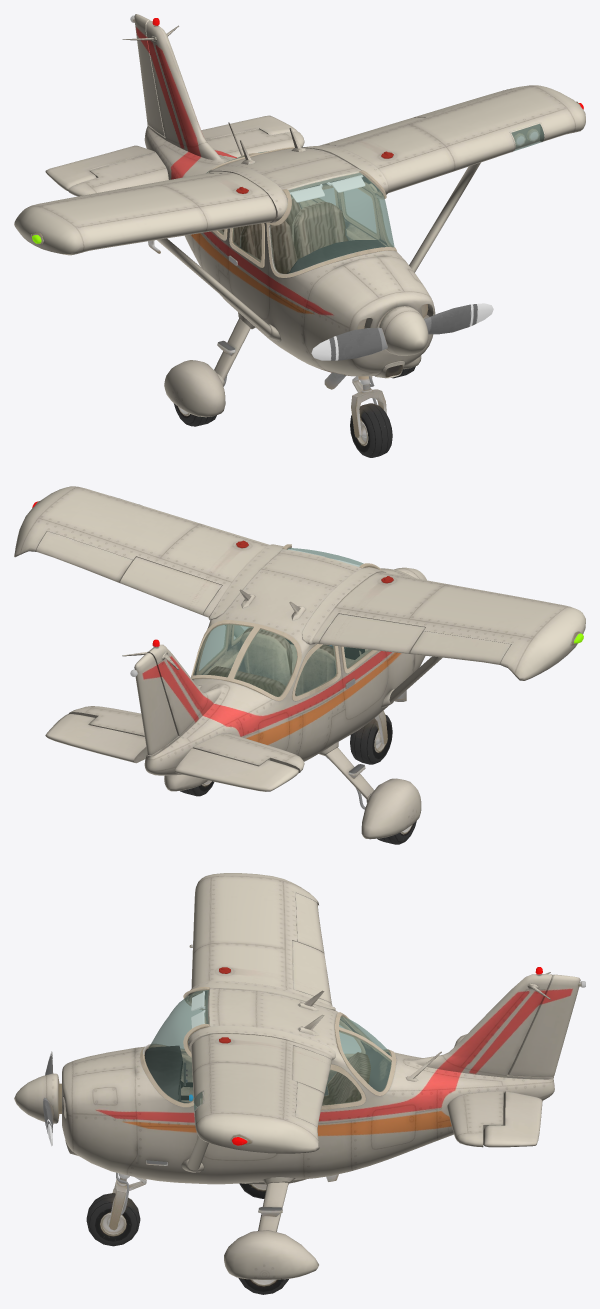
Rendered from skylark.glb.
3 renders of one model, top to bottom at view 1: azimuth 30°, elevation 25°; view 2: azimuth 150°, elevation 25°; view 3: azimuth 270°, elevation 25°, orthographic.
Parts seen in each view (by area): view 1: Fuselage, Propeller, Elevator, NoseGear_Pivot, Spinner, Rudder; view 2: Fuselage, Elevator, Flap_Left, Flap_Right, Rudder, Aileron_Left, Aileron_Right, NoseGear_Pivot; view 3: Fuselage, Rudder, NoseGear_Pivot, Elevator, Flap_Right, Spinner, Flap_Left, Aileron_Right, Aileron_Left.
Boxes of the visible parts, x1,y1,x2,y2 form: Fuselage: (14,18,585,426); Propeller: (311,303,493,360); Elevator: (45,115,297,190); NoseGear_Pivot: (350,376,392,457); Spinner: (379,306,428,355); Rudder: (130,14,164,136); Fuselage: (14,486,585,844); Elevator: (45,714,298,791); Flap_Left: (120,557,222,615); Flap_Right: (319,614,425,653); Rudder: (130,653,177,755); Aileron_Left: (36,531,132,582); Aileron_Right: (410,631,511,664); NoseGear_Pivot: (350,710,392,764); Fuselage: (62,873,554,1294); Rudder: (508,974,585,1076); NoseGear_Pivot: (86,1172,146,1246); Elevator: (483,1091,542,1147); Flap_Right: (292,940,331,1003); Spinner: (14,1073,61,1123); Flap_Left: (292,1045,331,1093); Aileron_Right: (295,892,324,953); Aileron_Left: (295,1082,324,1127).
Size of the model in its own units: 3.98 by 1.93 by 3.63.
Materials: 3 (2 with a texture image).
